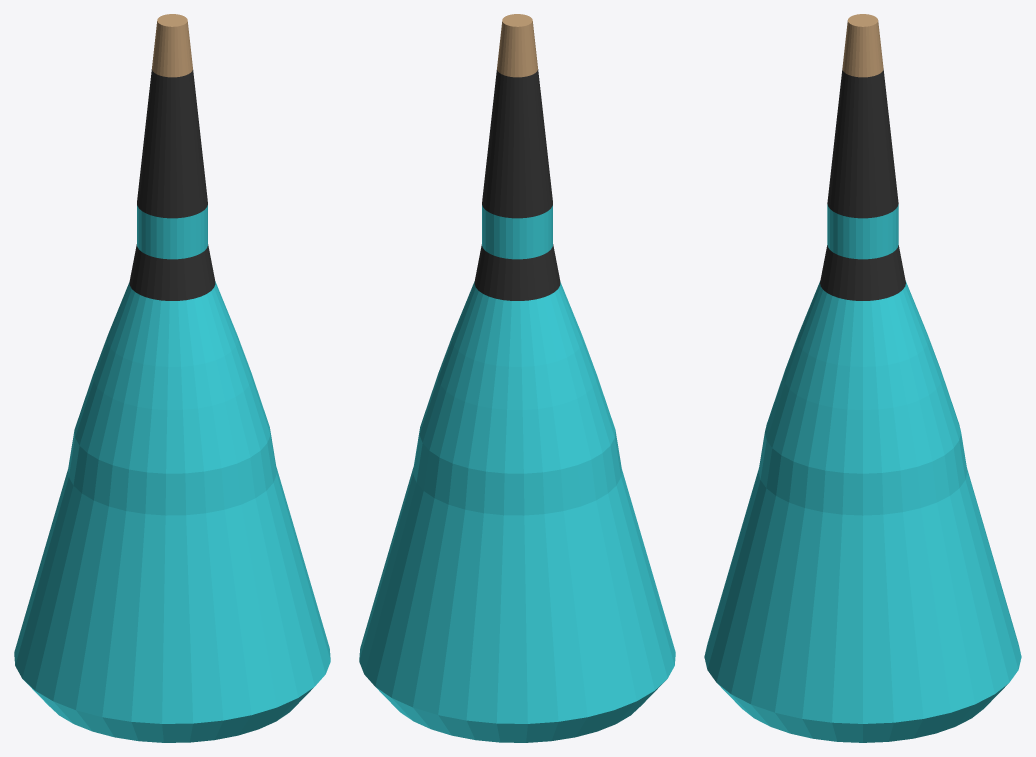
Rendered from (Multi)WineBottle3WIP.fbx.
The picture shows the model from 3 angles, left to right: view 1: azimuth 30°, elevation 25°; view 2: azimuth 150°, elevation 25°; view 3: azimuth 270°, elevation 25°; orthographic projection.
Parts seen in each view (by area): view 1: Cylinder; view 2: Cylinder; view 3: Cylinder.
Boxes of the visible parts, box(x1,y1,x2,y2) form: Cylinder: box(14, 14, 330, 742); Cylinder: box(359, 14, 675, 742); Cylinder: box(704, 14, 1021, 742).
Bounding box in the file's own units: 30.1 × 69.84 × 30.1.
